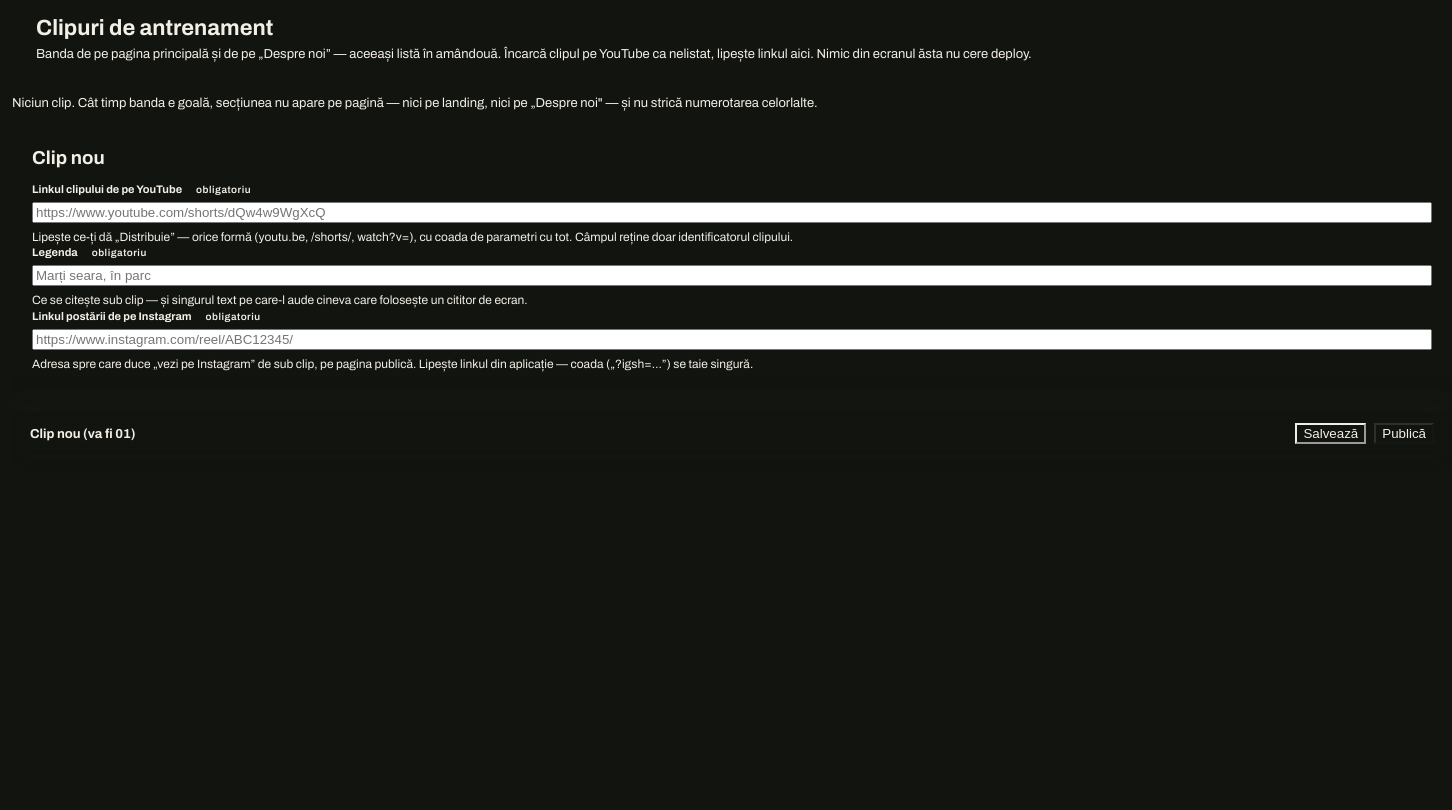
Test: linkul lipit din YouTube › https://youtu.be/dQw4w9WgXcQ?si=abc se reduce la identificator (linkul scurt de pe telefon)
Expected: the text "Niciun clip" is shown, [12, 96, 818, 110]
In the field labelled "Linkul clipului de pe YouTube": (732,212) [32, 202, 1432, 223], type "https://youtu.be/dQw4w9WgXcQ?si=abc"
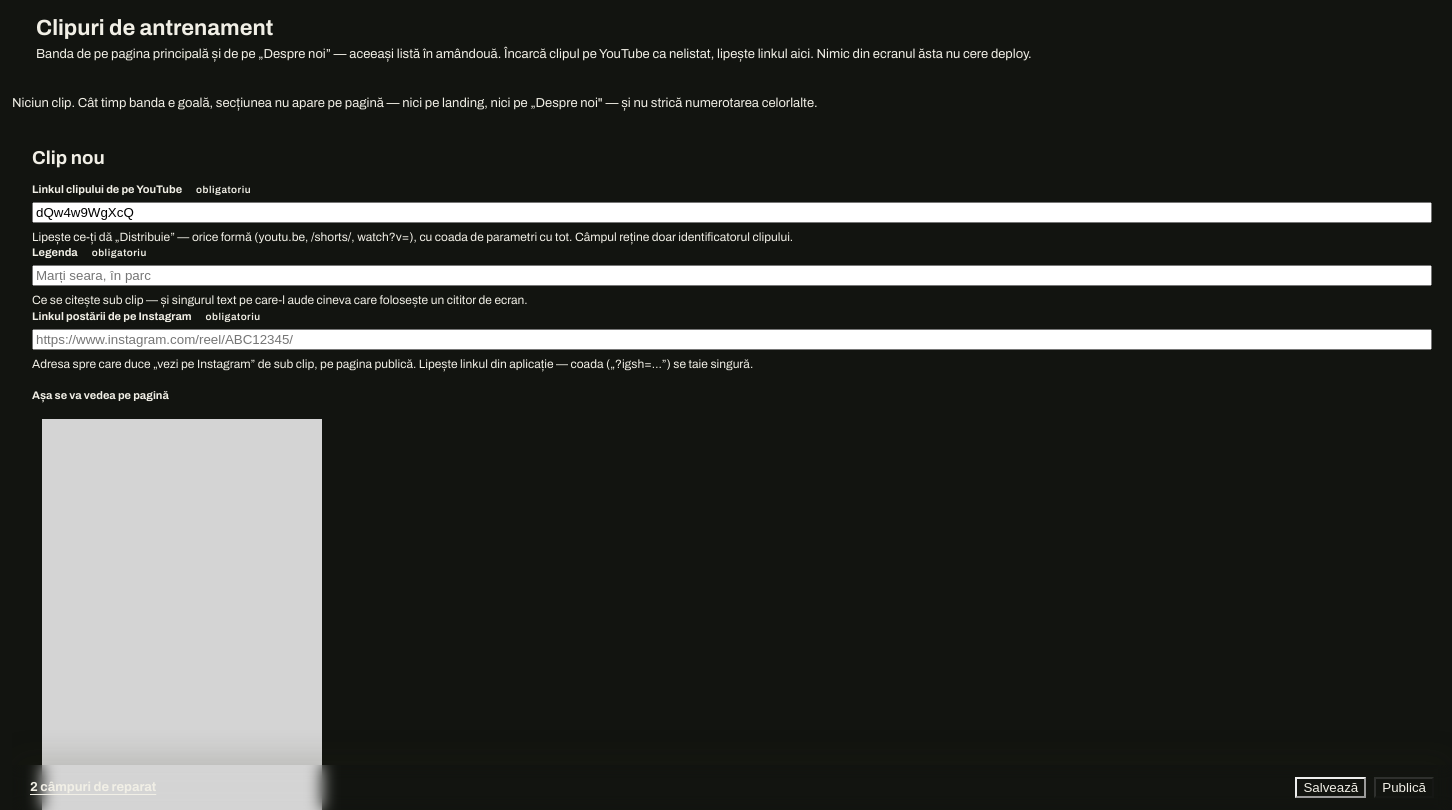
Expected: the field labelled "Linkul clipului de pe YouTube" holds "dQw4w9WgXcQ", [32, 202, 1432, 223]
